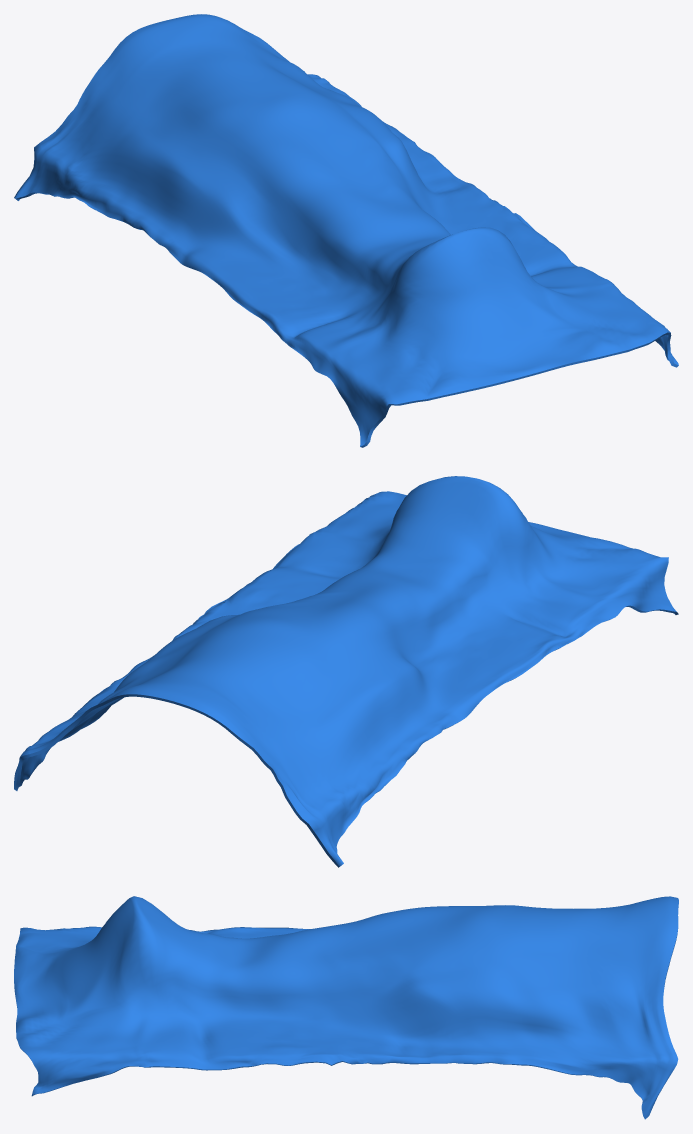
File: Manta.fbx
The picture shows the model from 3 angles, top to bottom: view 1: azimuth 30°, elevation 25°; view 2: azimuth 150°, elevation 25°; view 3: azimuth 270°, elevation 25°; orthographic projection. The views are drawn at different scales.
Parts seen in each view (by area): view 1: MantaL; view 2: MantaL; view 3: MantaL.
Part boxes in pixels (x1,y1,x2,y2): MantaL: (14, 14, 678, 447); MantaL: (14, 476, 678, 867); MantaL: (14, 896, 678, 1119).
Bounding box in the file's own units: 0.8898 × 0.3838 × 1.67.
